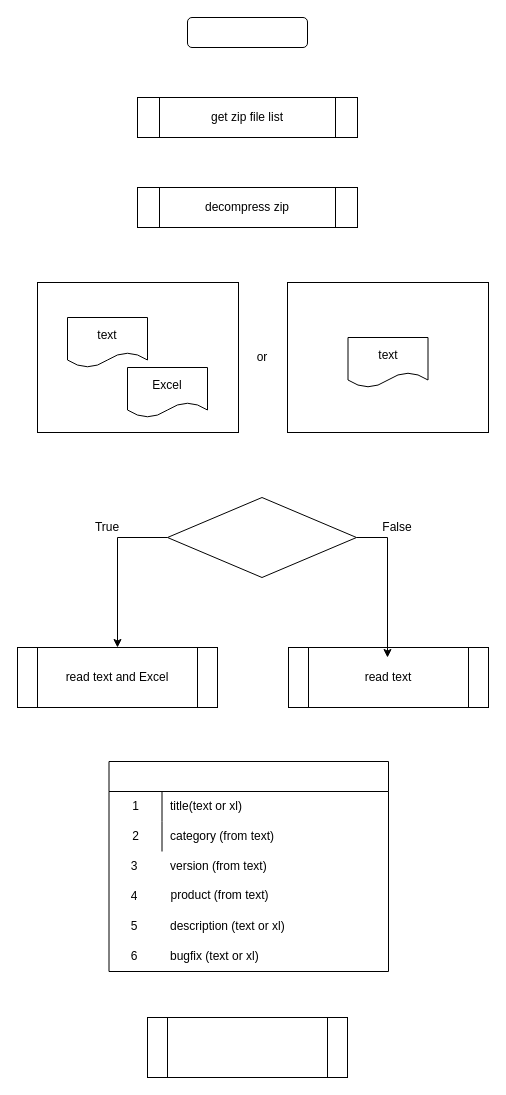
The diagram is 506 pixels wide and 1095 high, and some of its shapes have lost their labels. The shapes that lost their labels are listed below. From the top down, each one's box as (x1, y1, x2, y2) in pixels, then its label:
(186, 16, 308, 48): start
(166, 496, 356, 578): Excel file is Exists?
(108, 760, 388, 972): Table
(146, 1016, 348, 1078): create excel file
